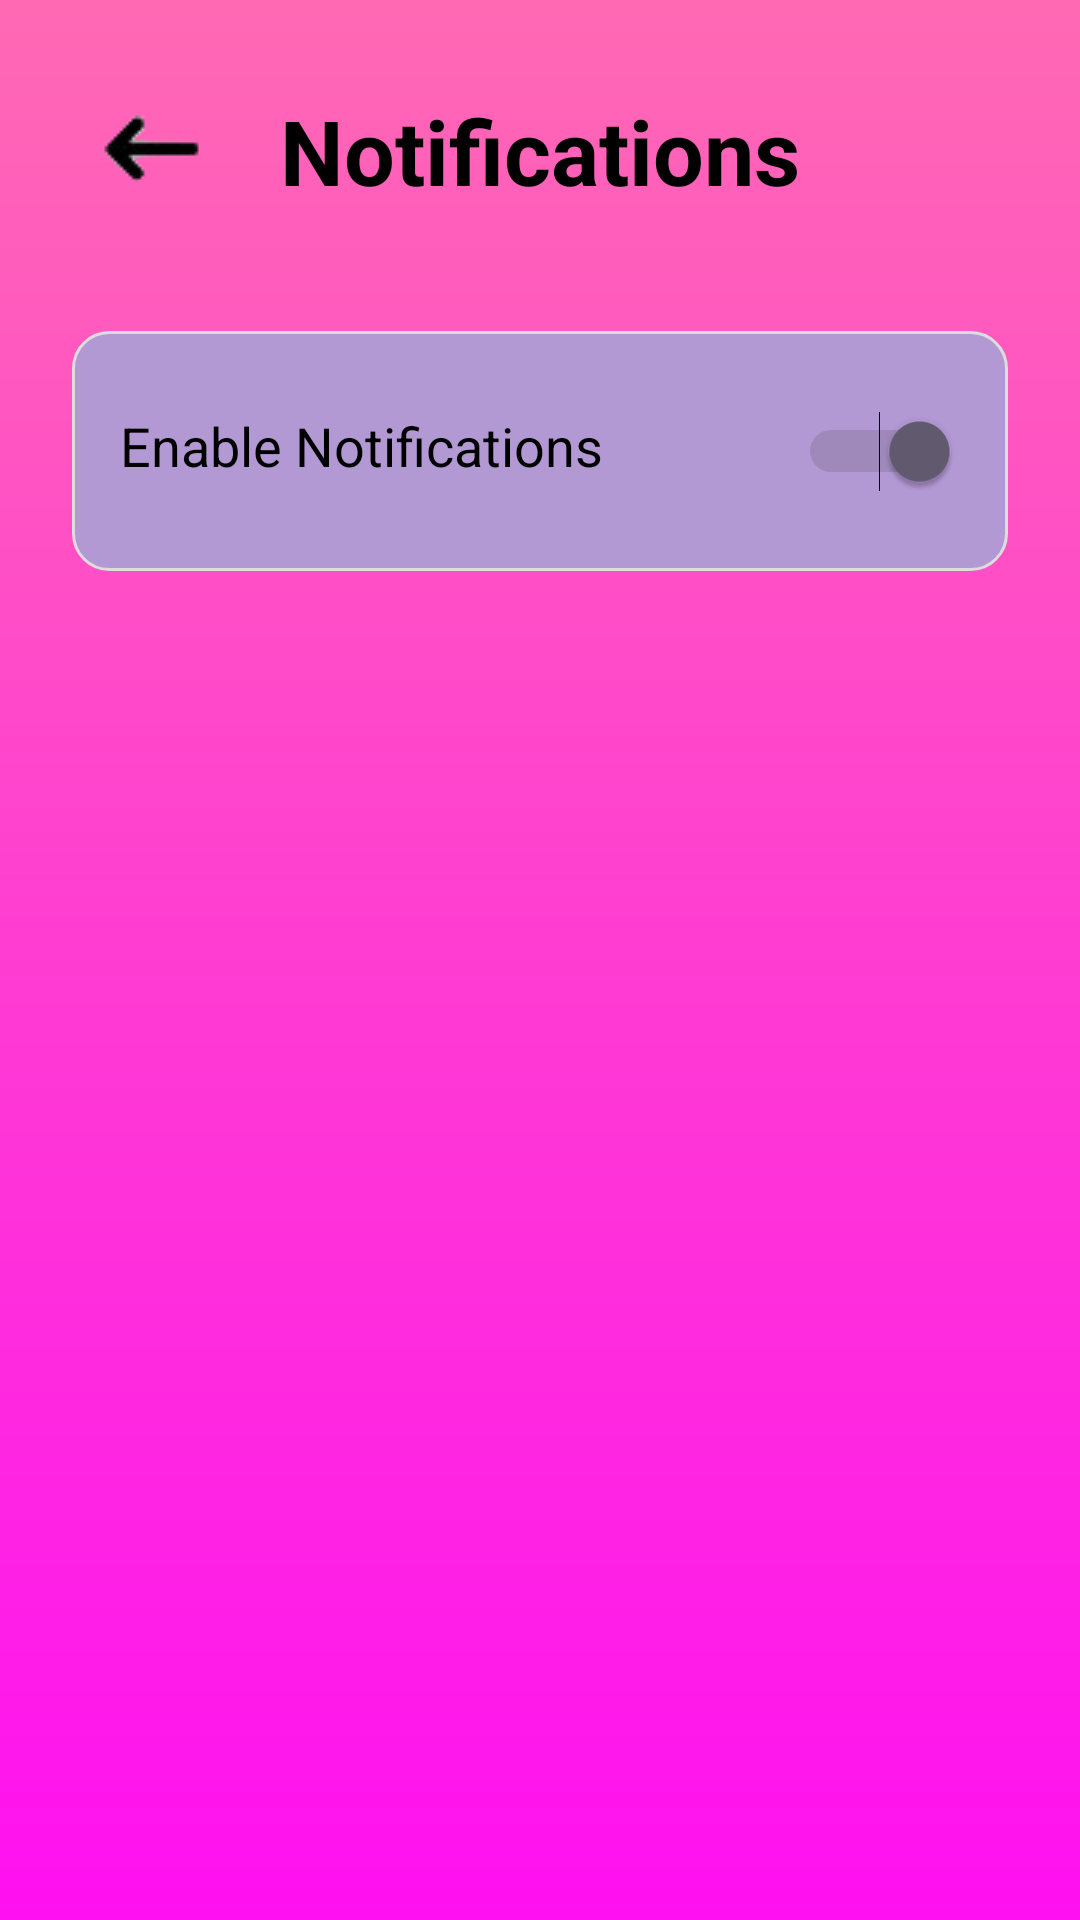

Where icons sit on this 1080x1920 app screen, as (x1=x1, y1=y1, x2=x2, y2=y2):
Return: (x1=104, y1=115, x2=199, y2=182)
